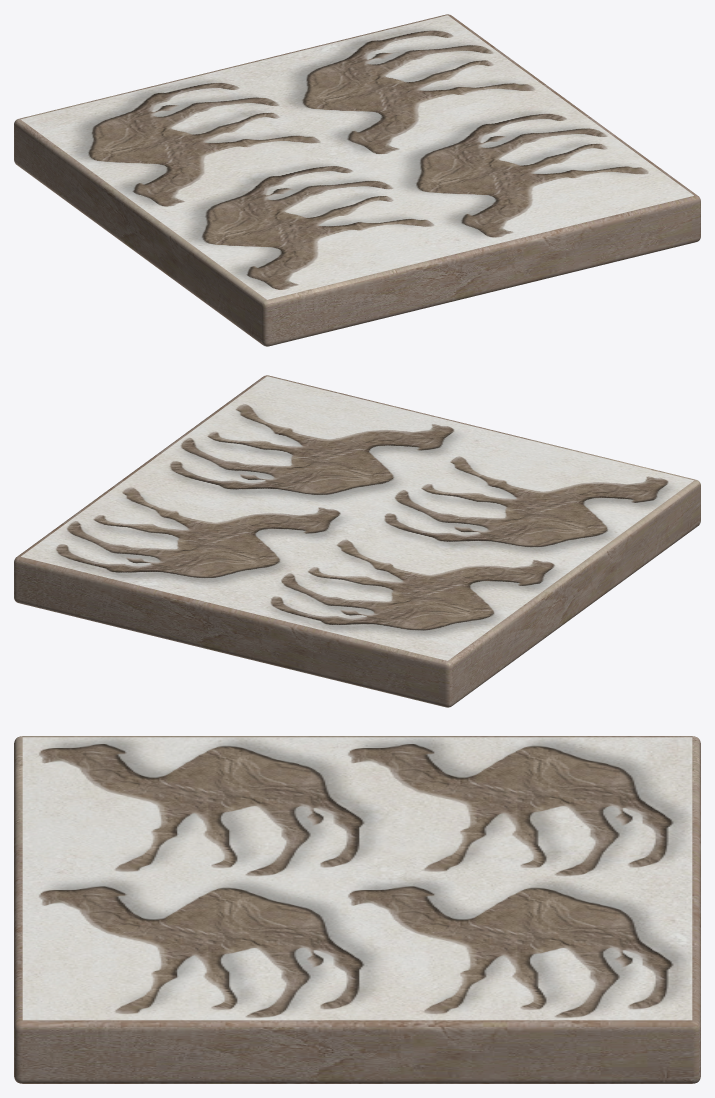
File: tile28.glb
3 renders of one model, top to bottom at view 1: azimuth 30°, elevation 25°; view 2: azimuth 150°, elevation 25°; view 3: azimuth 270°, elevation 25°, orthographic. The views are drawn at different scales.
Visible parts, largest first — view 1: Box001; view 2: Box001; view 3: Box001.
Part boxes in pixels (box(x1,y1,x2,y2)): Box001: box(14, 14, 700, 346); Box001: box(14, 375, 700, 707); Box001: box(14, 736, 700, 1083).
Bounding box in the file's own units: 0.254 × 0.0254 × 0.254.
Materials: 2 (2 with a texture image).
